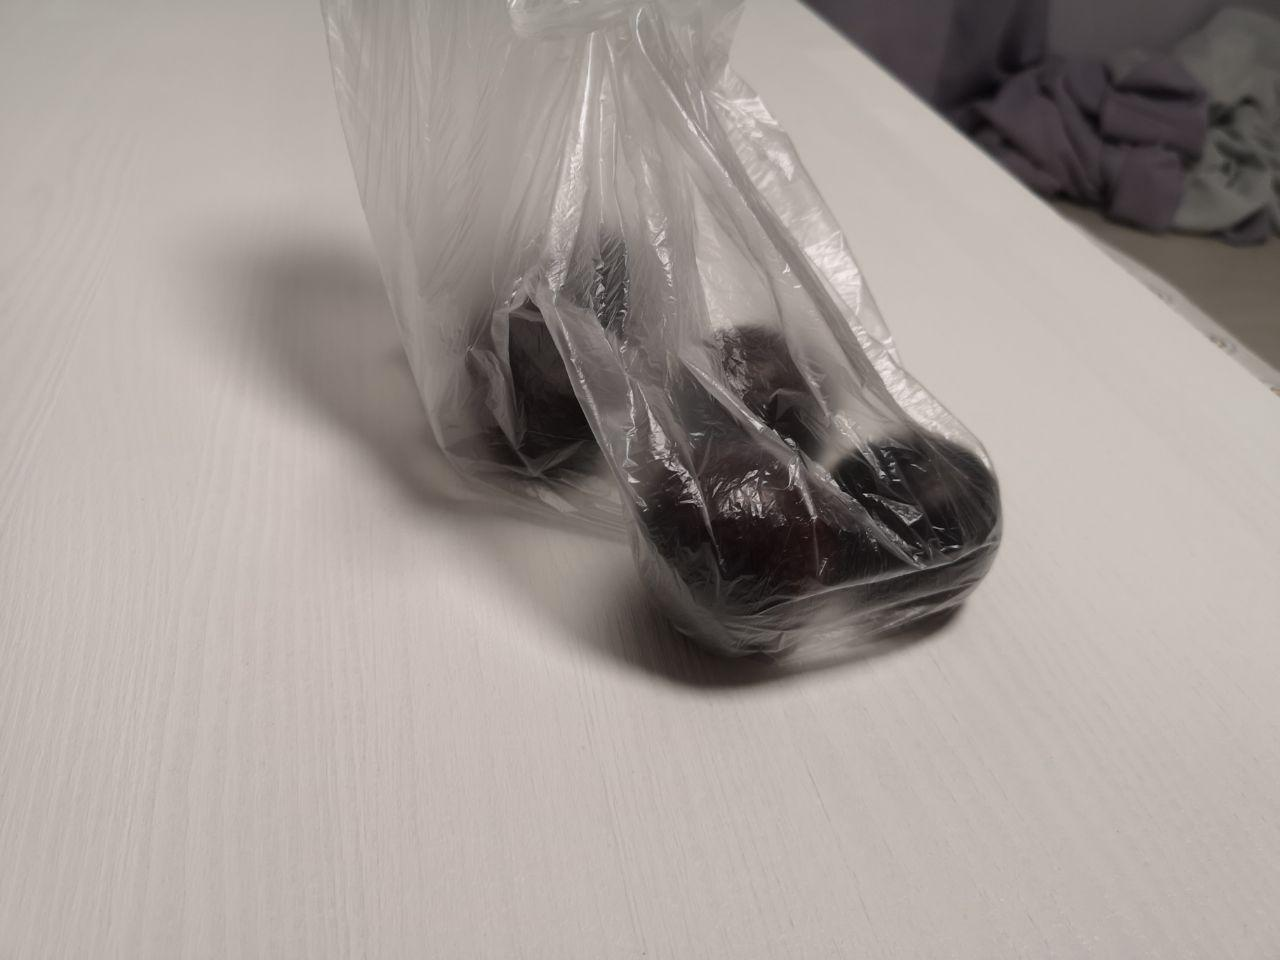plum: (301, 106, 1066, 761)
